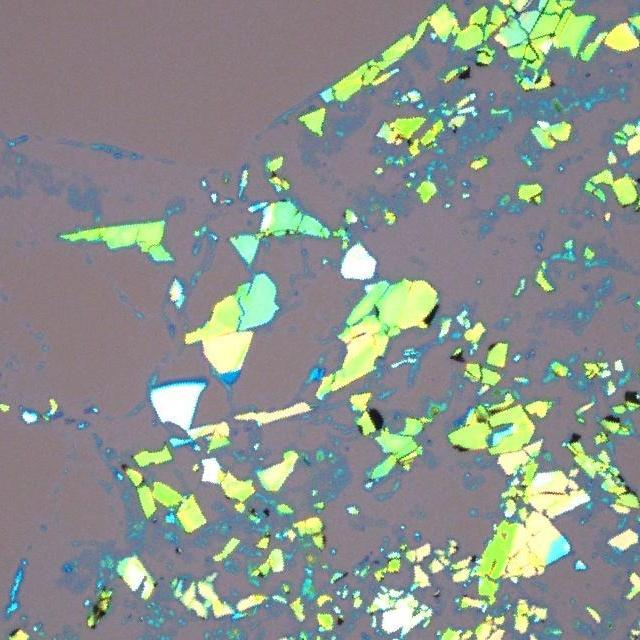monolayer-eWW4: (156, 374, 206, 384)
